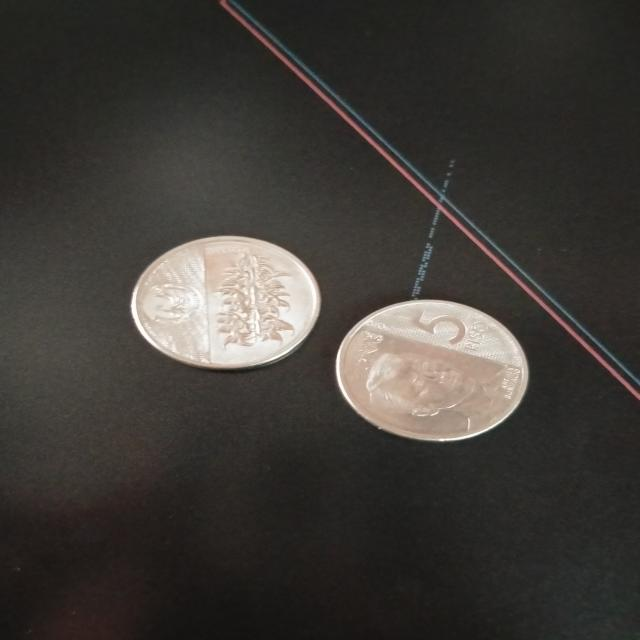5_New_Back: (198, 240, 314, 355)
5_New_Front: (394, 302, 508, 363)
